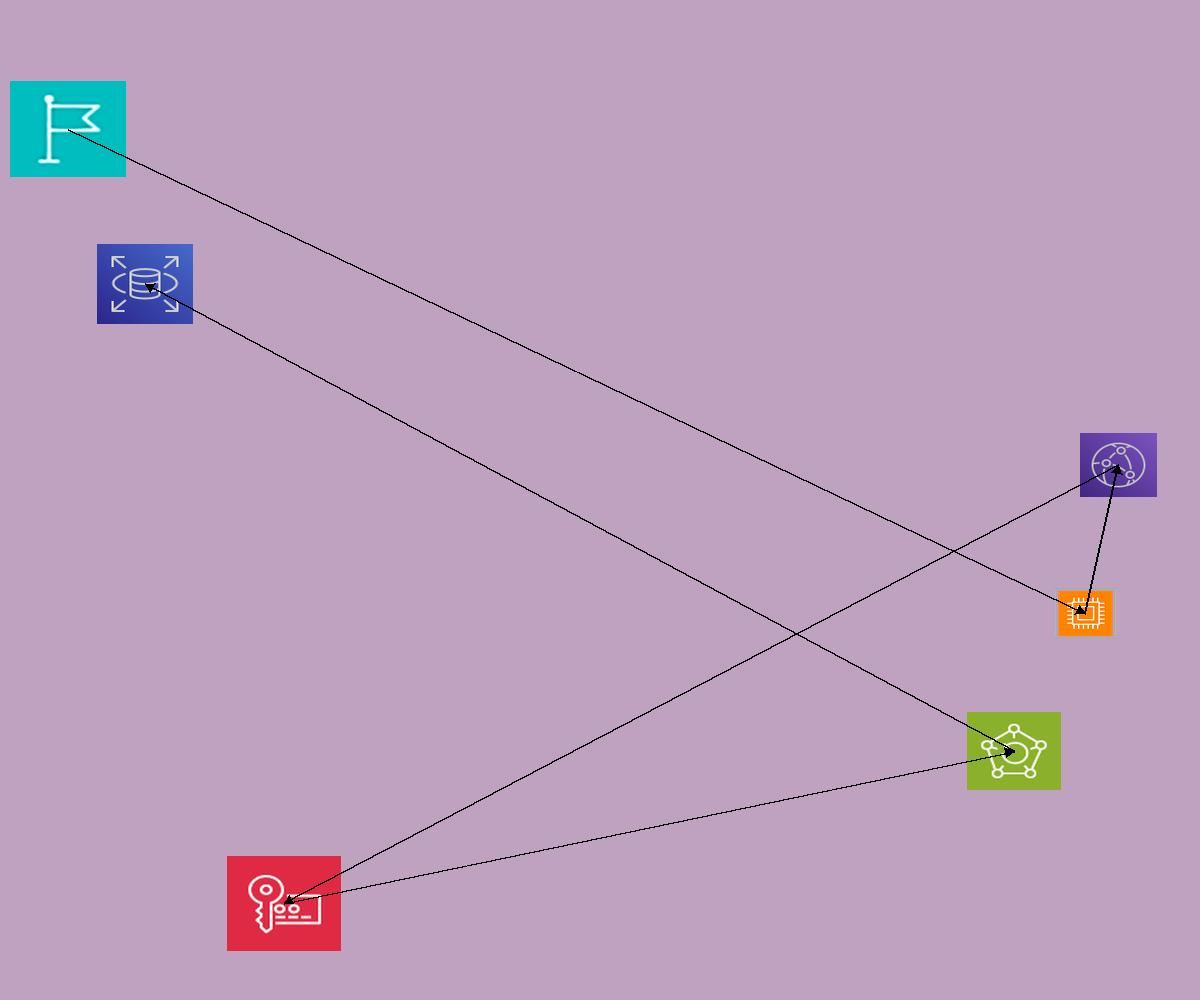AWS-Backup: (967, 712, 1061, 790)
AWS-Category_Compute: (1055, 588, 1116, 639)
AWS-CloudFront: (1080, 433, 1157, 497)
AWS-Key-Management-Service: (227, 856, 341, 951)
AWS-RDS: (97, 244, 193, 324)
AWS-Region: (10, 81, 126, 177)
